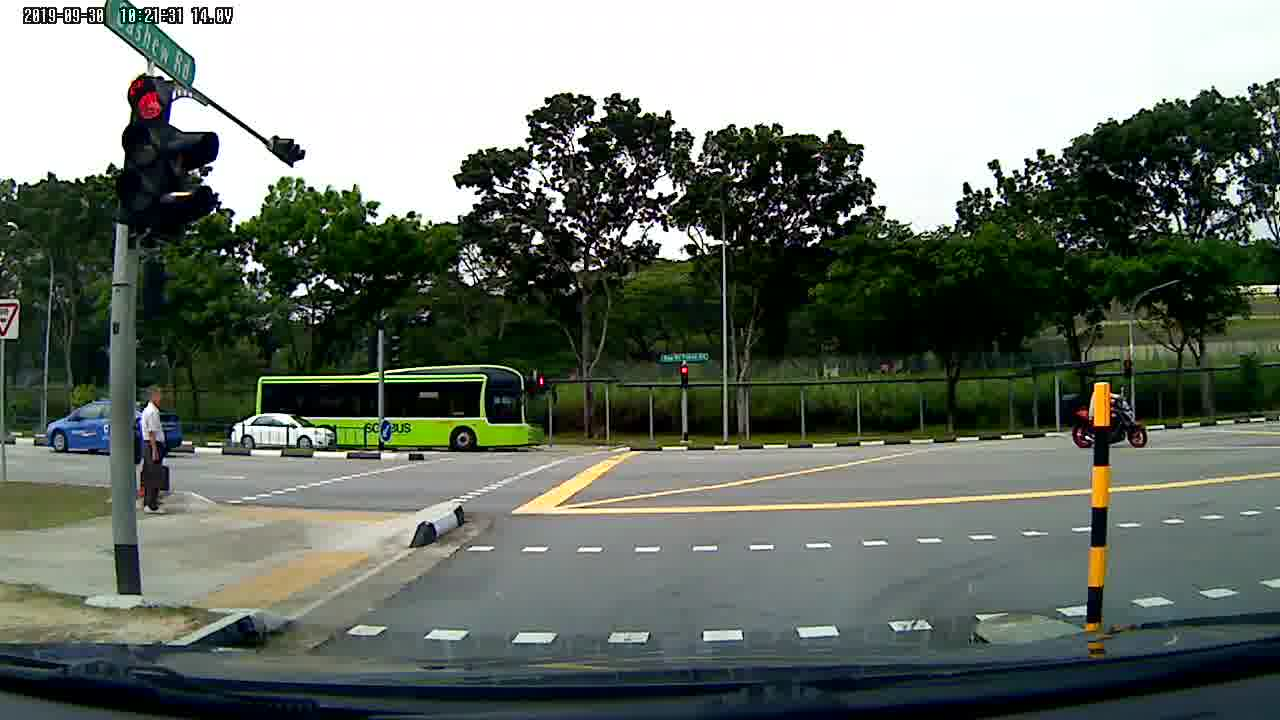bus: (255, 360, 551, 453)
car: (42, 395, 186, 459), (230, 409, 344, 456)
